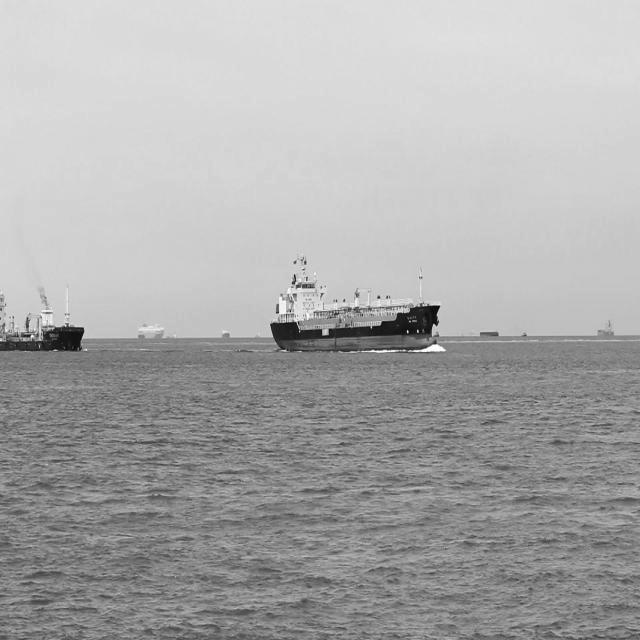ship: (268, 255, 442, 353), (0, 280, 87, 352), (136, 322, 165, 341), (598, 316, 618, 341)
